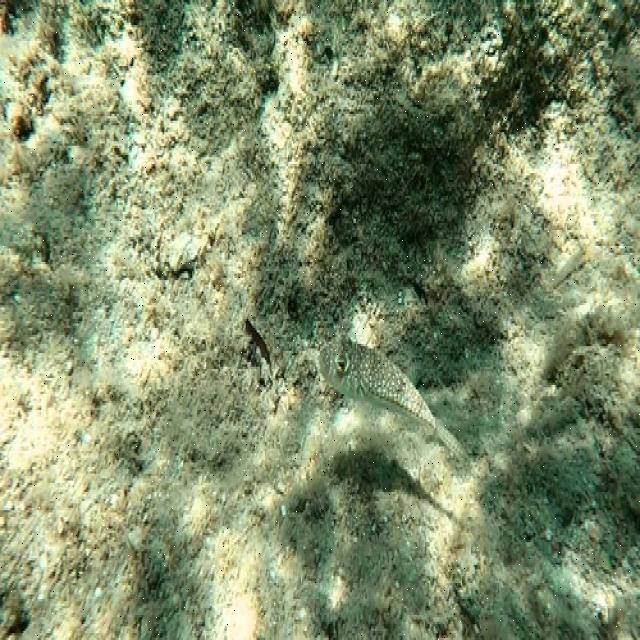Balik: (319, 340, 465, 457)
